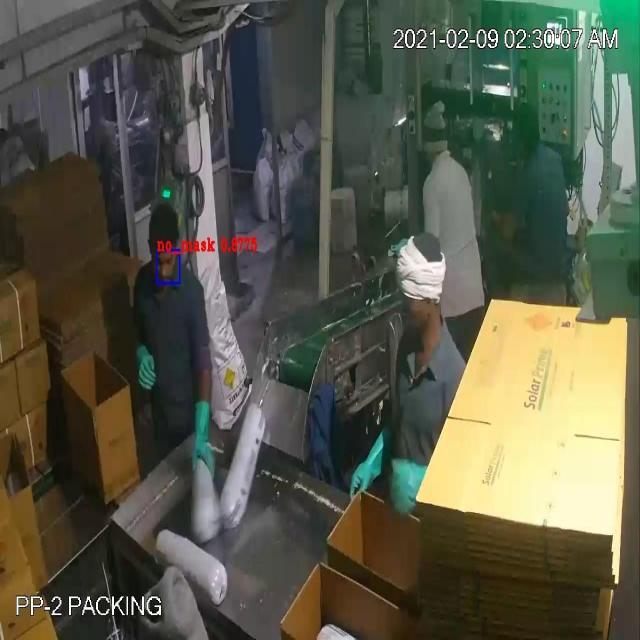Gloves: (34, 58, 507, 484)
